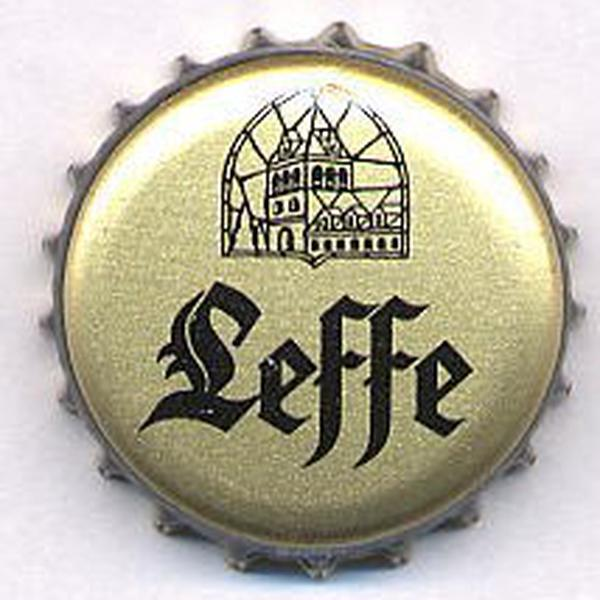leffe: (12, 8, 593, 589)
